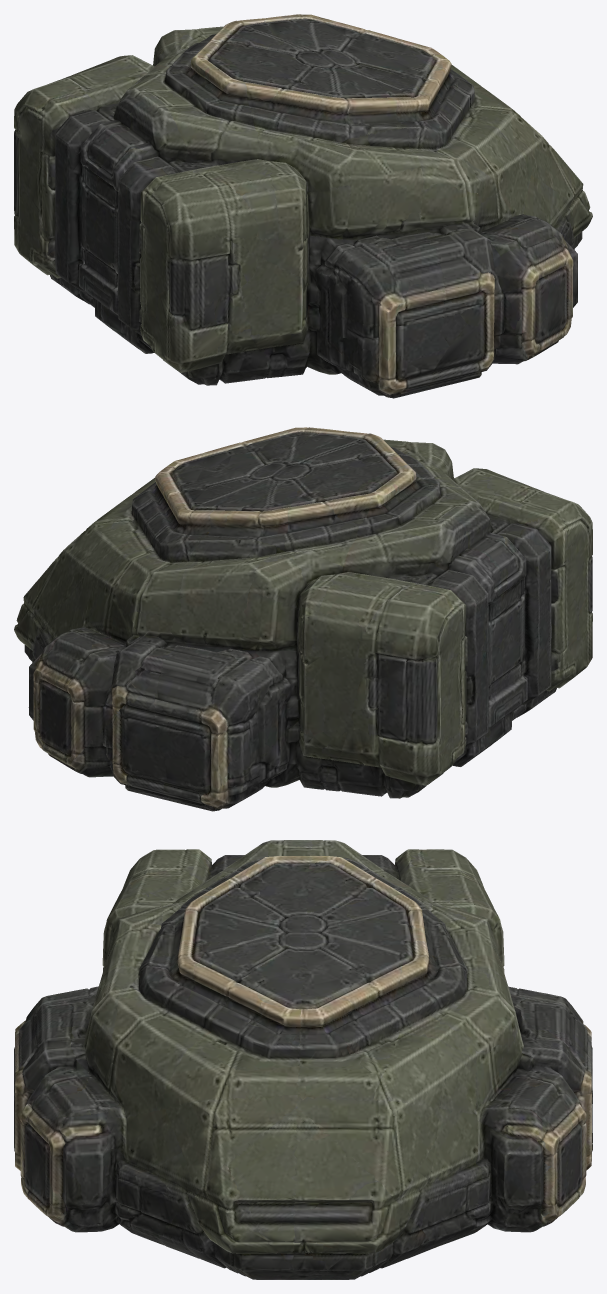
The model's file is arc-mortar-lean.glb.
3 renders of one model, top to bottom at view 1: azimuth 30°, elevation 25°; view 2: azimuth 150°, elevation 25°; view 3: azimuth 270°, elevation 25°, orthographic. The views are drawn at different scales.
Visible parts, largest first — view 1: chassis; view 2: chassis; view 3: chassis.
Part boxes in pixels (x1=…): chassis: x1=14, y1=14, x2=592, y2=398; chassis: x1=14, y1=427, x2=592, y2=811; chassis: x1=14, y1=840, x2=592, y2=1279.
Size of the model in its own units: 0.9573 by 0.495 by 0.9899.
1 material, 1 textured.
